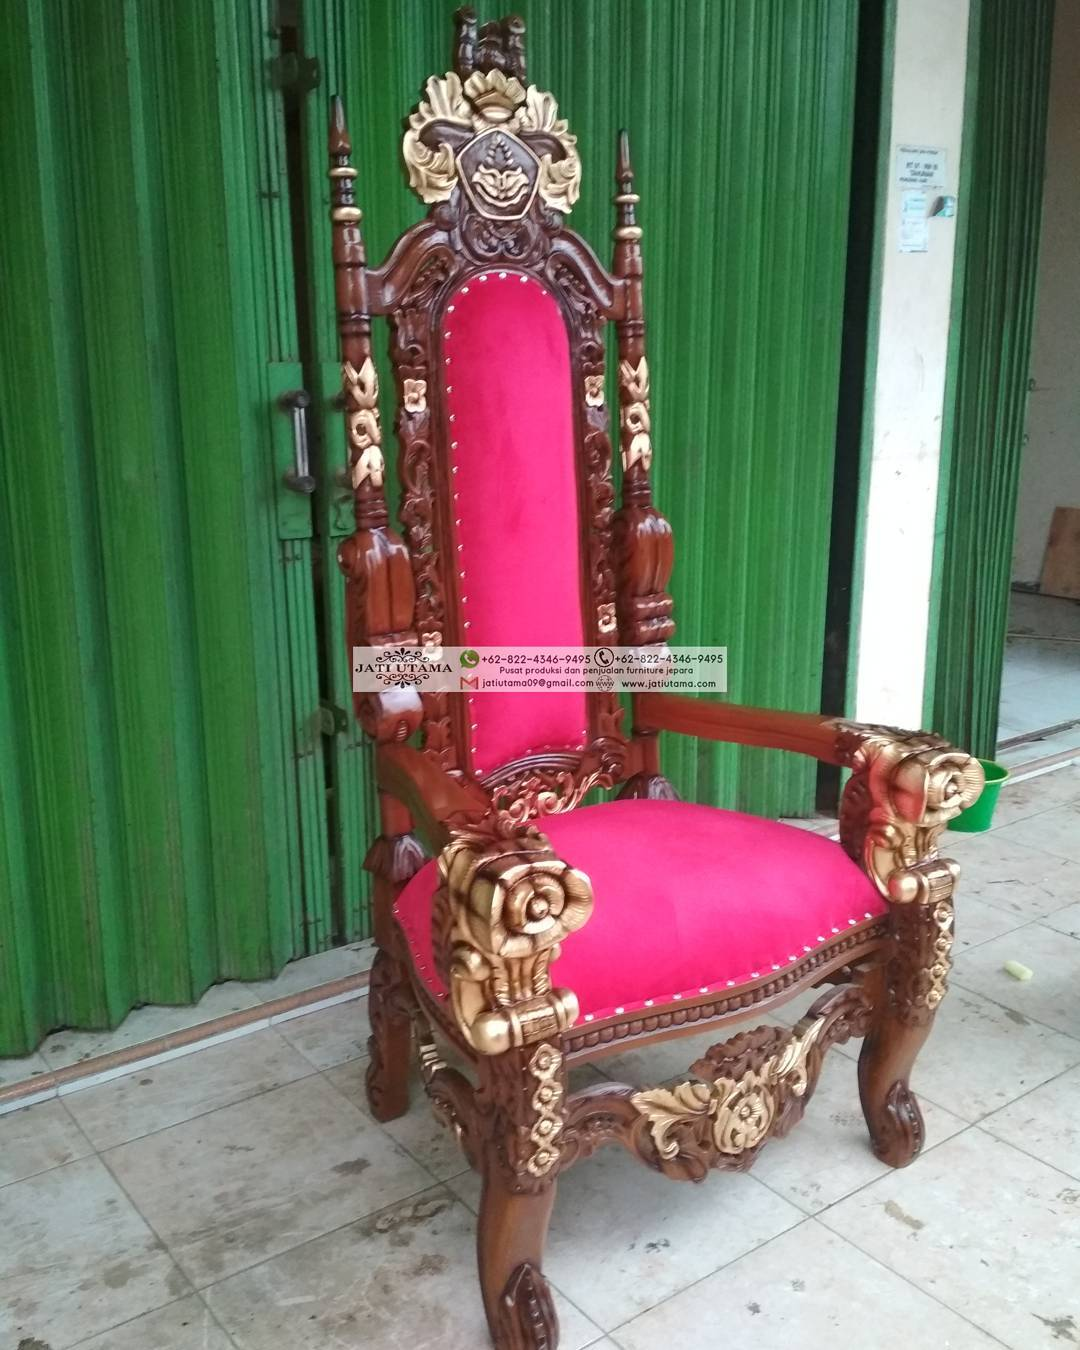Carving Chair: (253, 83, 989, 1303)
